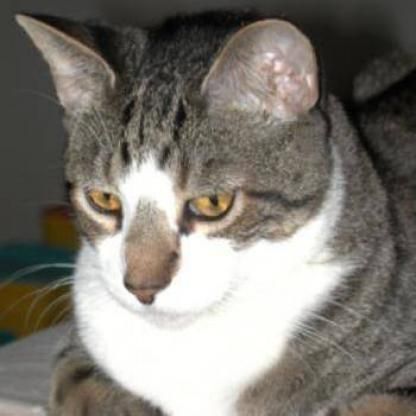cat: (20, 4, 370, 362)
